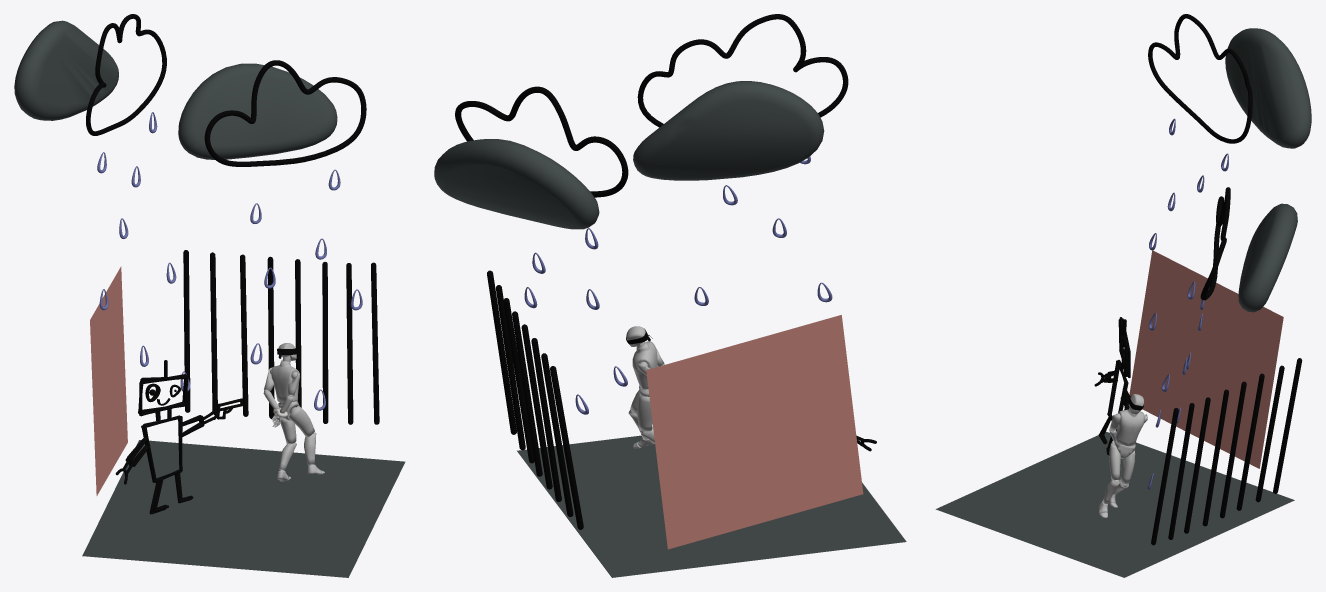
Rendered from robotoverlord.glb.
3 views of the same model, side by side, from view 1: azimuth 30°, elevation 25°; view 2: azimuth 150°, elevation 25°; view 3: azimuth 270°, elevation 25° (orthographic). The views are drawn at different scales.
Visible parts, largest first — view 1: robot.001; view 2: robot.001; view 3: robot.001.
Part boxes in pixels (x1,y1,x2,y2): robot.001: (14,14,405,577); robot.001: (434,14,906,577); robot.001: (935,14,1311,577).
Size of the model in its own units: 8.38 by 11.3 by 8.59.
